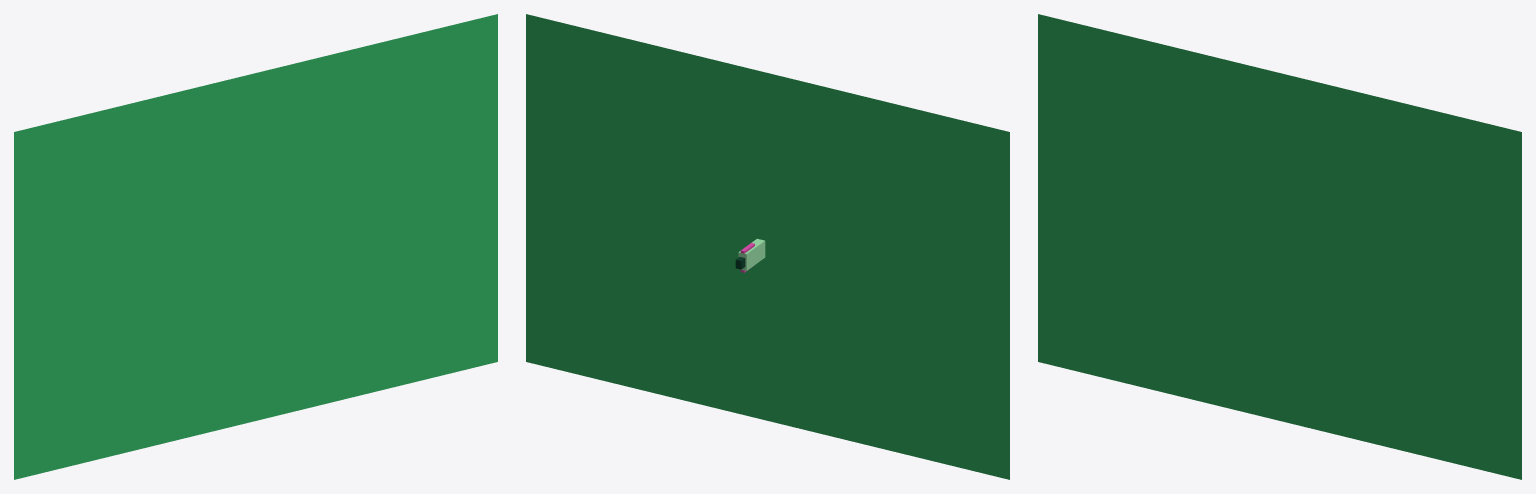
Rendered from GameObject.fbx.
3 views of the same model, side by side, from view 1: azimuth 30°, elevation 25°; view 2: azimuth 150°, elevation 25°; view 3: azimuth 330°, elevation 25° (orthographic).
Parts seen in each view (by area): view 1: ground; view 2: ground, player; view 3: ground.
Part boxes in pixels (x1,y1,x2,y2): ground: (14, 14, 497, 479); ground: (526, 14, 1009, 479); player: (735, 238, 765, 270); ground: (1038, 14, 1521, 479).
Bounding box in the file's own units: 608 × 418 × 55.63.
